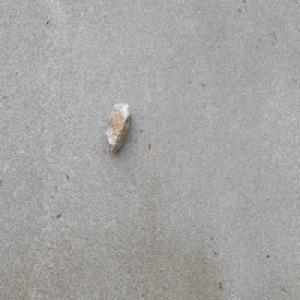Rock: (104, 102, 131, 156)
